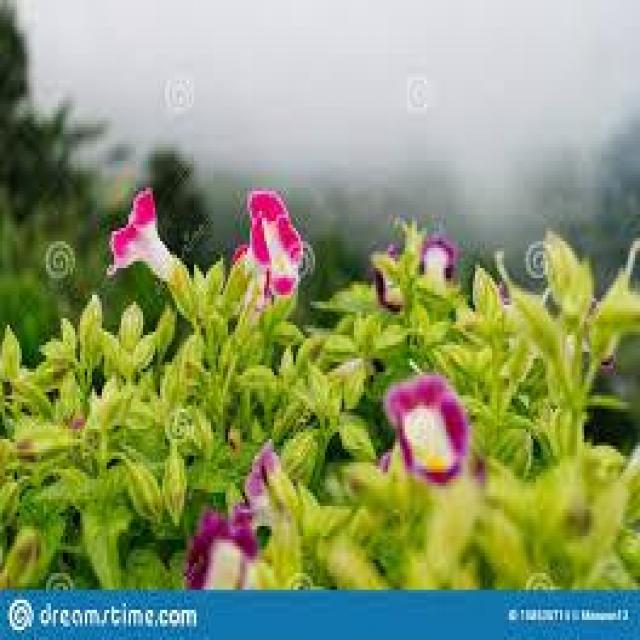organic waste: (98, 178, 205, 312), (383, 372, 480, 489), (232, 173, 312, 310), (378, 230, 461, 316)
